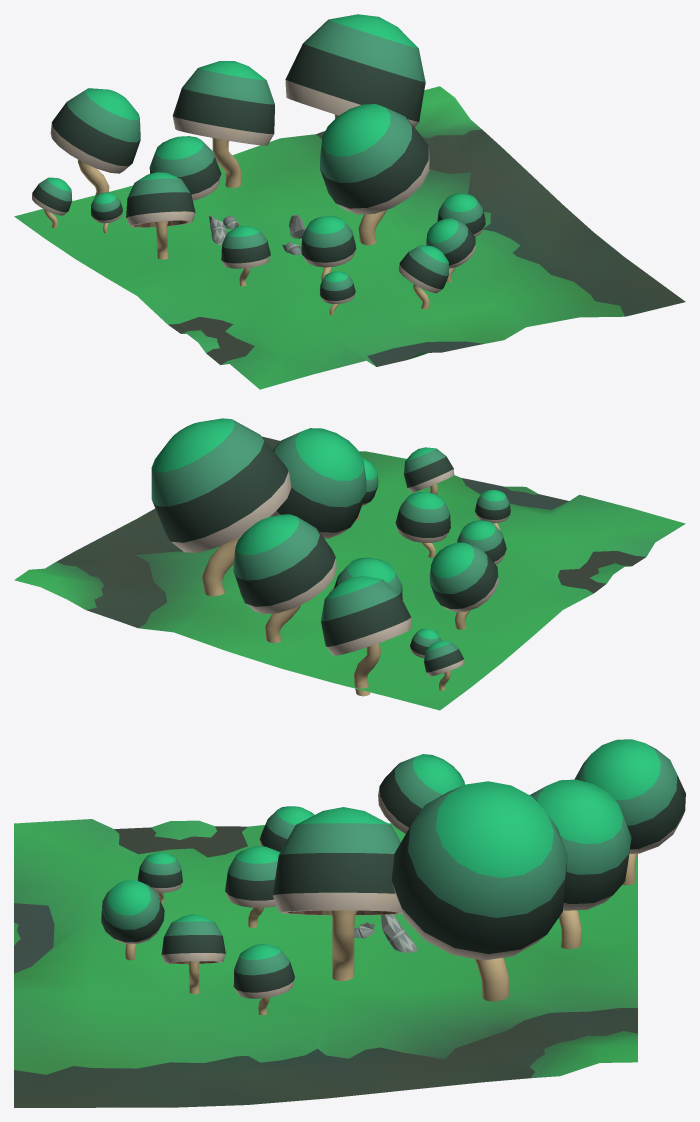
Rendered from LevelC2.fbx.
3 renders of one model, top to bottom at view 1: azimuth 30°, elevation 25°; view 2: azimuth 150°, elevation 25°; view 3: azimuth 270°, elevation 25°, orthographic. The views are drawn at different scales.
Parts seen in each view (by area): view 1: GroundC2, MushroomA, MushroomA.001, MushroomA.003, MushroomA.002, MushroomA.006, MushroomB.011, MushroomB.008, MushroomA.008, MushroomB.015, MushroomA.007, MushroomA.009 (+3 smaller); view 2: GroundC2, MushroomA, MushroomA.003, MushroomA.001, MushroomA.002, MushroomA.006, MushroomB.008, MushroomA.008, MushroomB.015, MushroomA.009, MushroomB.011, MushroomB.010 (+2 smaller); view 3: GroundC2, MushroomA, MushroomA.001, MushroomA.003, MushroomA.002, MushroomA.006, MushroomA.008, MushroomA.007, MushroomB.008, MushroomB.009, MushroomB.010, MushroomB.015 (+1 smaller).
Boxes of the visible parts, x1,y1,x2,y2 form: GroundC2: (14, 86, 685, 389); MushroomA: (285, 14, 425, 127); MushroomA.001: (320, 104, 429, 245); MushroomA.003: (172, 61, 274, 187); MushroomA.002: (50, 88, 140, 196); MushroomA.006: (126, 172, 195, 259); MushroomB.011: (149, 136, 221, 200); MushroomB.008: (301, 216, 356, 281); MushroomA.008: (398, 245, 448, 309); MushroomB.015: (221, 226, 270, 286); MushroomA.007: (426, 218, 475, 282); MushroomA.009: (32, 177, 72, 228); GroundC2: (14, 436, 685, 710); MushroomA: (151, 418, 291, 596); MushroomA.003: (233, 514, 336, 642); MushroomA.001: (271, 428, 366, 538); MushroomA.002: (321, 576, 411, 696); MushroomA.006: (429, 542, 498, 629); MushroomB.008: (395, 492, 450, 557); MushroomA.008: (403, 447, 454, 494); MushroomB.015: (457, 520, 506, 564); MushroomA.009: (424, 640, 464, 690); MushroomB.011: (333, 557, 402, 599); MushroomB.010: (475, 489, 510, 530); GroundC2: (14, 819, 637, 1107); MushroomA: (391, 781, 567, 1001); MushroomA.001: (272, 807, 402, 980); MushroomA.003: (530, 779, 631, 949); MushroomA.002: (574, 739, 685, 885); MushroomA.006: (378, 754, 464, 833); MushroomA.008: (101, 880, 164, 960); MushroomA.007: (161, 914, 225, 994); MushroomB.008: (225, 846, 280, 927); MushroomB.009: (233, 944, 294, 1015); MushroomB.010: (137, 852, 182, 903); MushroomB.015: (259, 806, 314, 851).
Size of the model in its own units: 9067 by 3690 by 9752.
